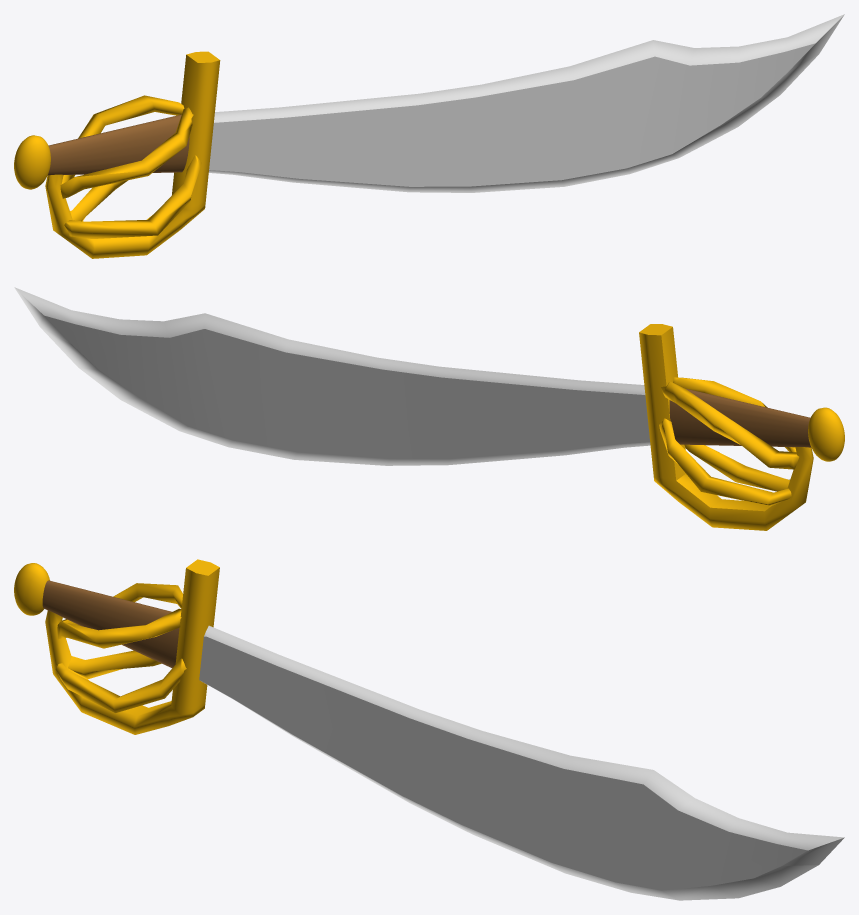
3 renders of one model, top to bottom at view 1: azimuth 30°, elevation 25°; view 2: azimuth 150°, elevation 25°; view 3: azimuth 330°, elevation 25°, orthographic.
Visible parts, largest first — view 1: sword (×3); view 2: sword (×3); view 3: sword (×3).
Boxes of the visible parts, <box> form: sword (×3): <box>14,14,844,258</box>; sword (×3): <box>14,287,844,530</box>; sword (×3): <box>14,559,844,900</box>.
Size of the model in its own units: 13.62 by 3.5 by 1.48.
